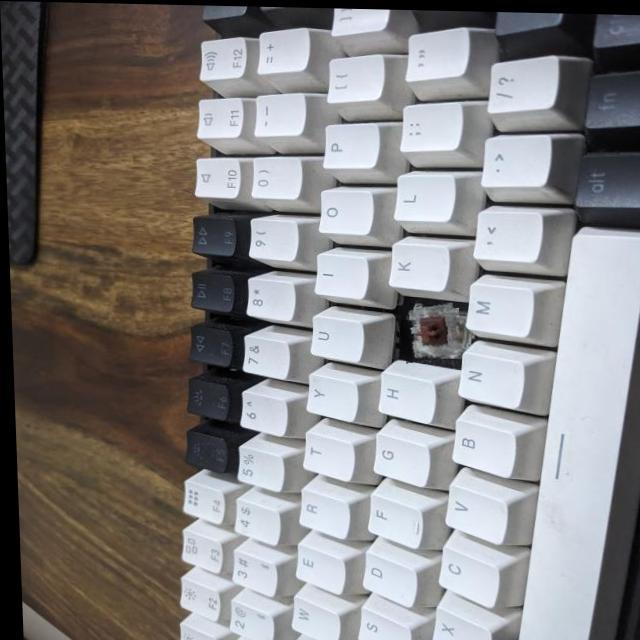key-switch: (395, 301, 461, 358)
